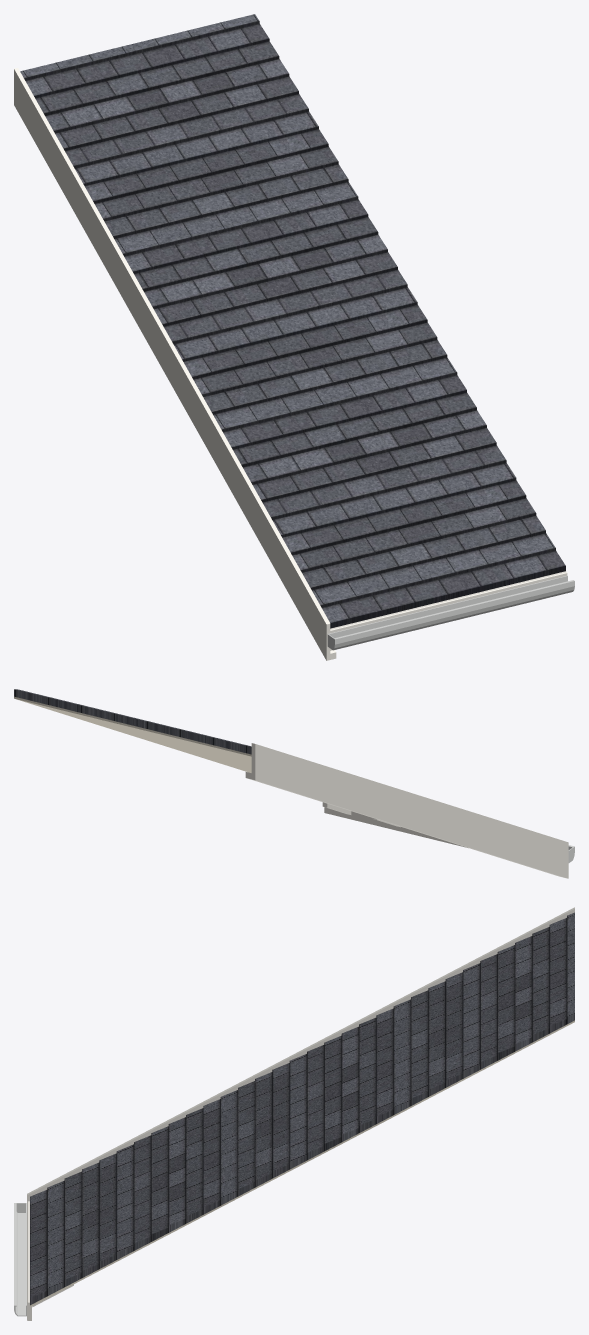
File: roof_store_back.glb
The picture shows the model from 3 angles, top to bottom: view 1: azimuth 30°, elevation 25°; view 2: azimuth 150°, elevation 25°; view 3: azimuth 270°, elevation 25°; orthographic projection. The views are drawn at different scales.
Visible parts, largest first — view 1: roof_store_back_shingles, roof_store_back_trim, roof_store_back_gutter; view 2: roof_store_back_trim, roof_store_back_plaster, roof_store_back_shingles; view 3: roof_store_back_shingles, roof_store_back_trim, roof_store_back_gutter, roof_store_back_plaster.
Part boxes in pixels (x1=…): roof_store_back_shingles: x1=20, y1=14, x2=565, y2=628; roof_store_back_trim: x1=14, y1=68, x2=567, y2=660; roof_store_back_gutter: x1=327, y1=575, x2=574, y2=650; roof_store_back_trim: x1=245, y1=743, x2=568, y2=878; roof_store_back_plaster: x1=14, y1=696, x2=251, y2=772; roof_store_back_shingles: x1=14, y1=689, x2=251, y2=754; roof_store_back_shingles: x1=30, y1=912, x2=574, y2=1305; roof_store_back_trim: x1=27, y1=907, x2=574, y2=1320; roof_store_back_gutter: x1=14, y1=1203, x2=26, y2=1316; roof_store_back_plaster: x1=30, y1=1020, x2=574, y2=1306.
Size of the model in its own units: 2.44 by 3.52 by 5.61.
4 materials, 2 textured.
